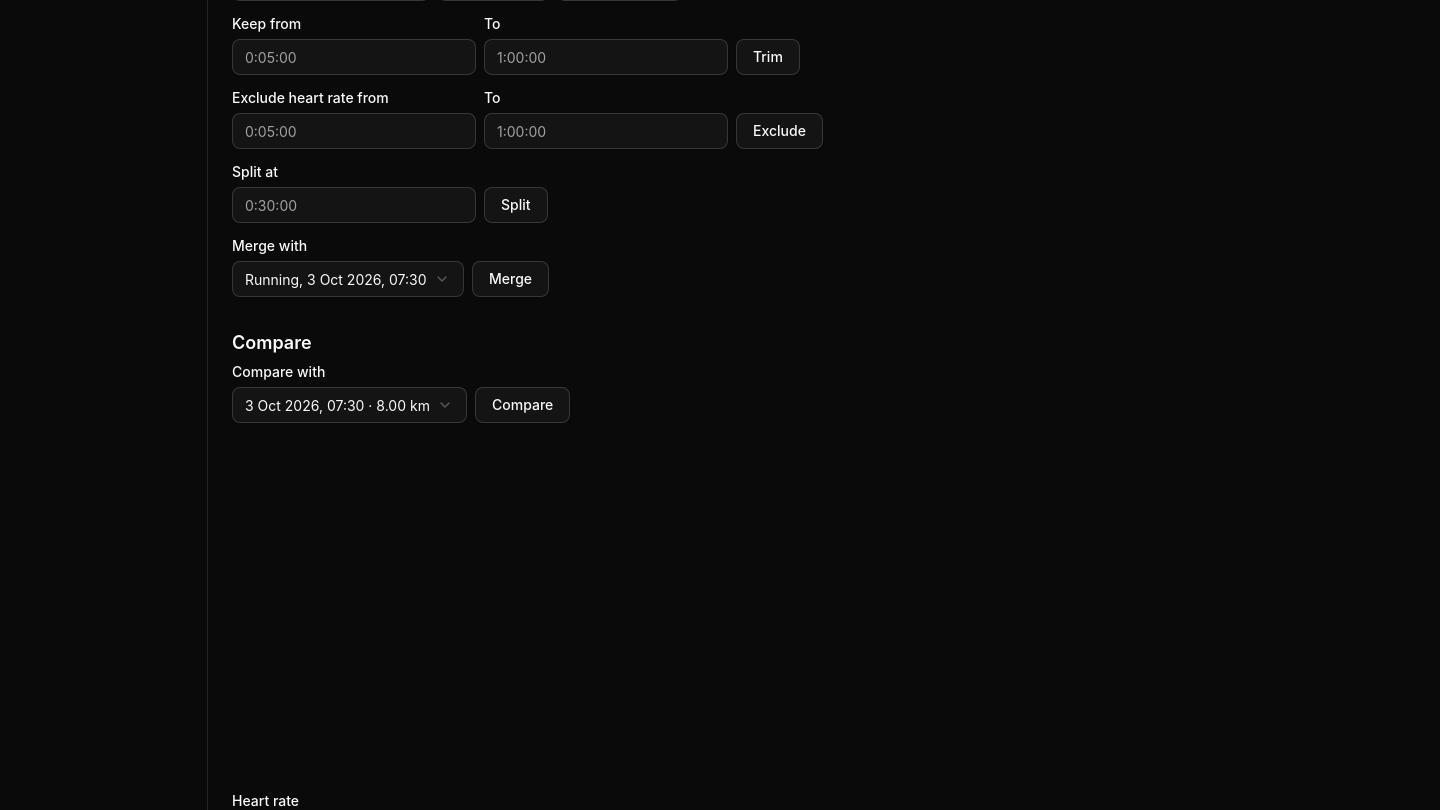
Scenario: ActivityDetailPage › compares with a recent activity of the same sport
(page scrolled)
Click the button "Compare". click: (523, 405)
box: top-left (475, 387), bottom-right (570, 423)
(page scrolled)
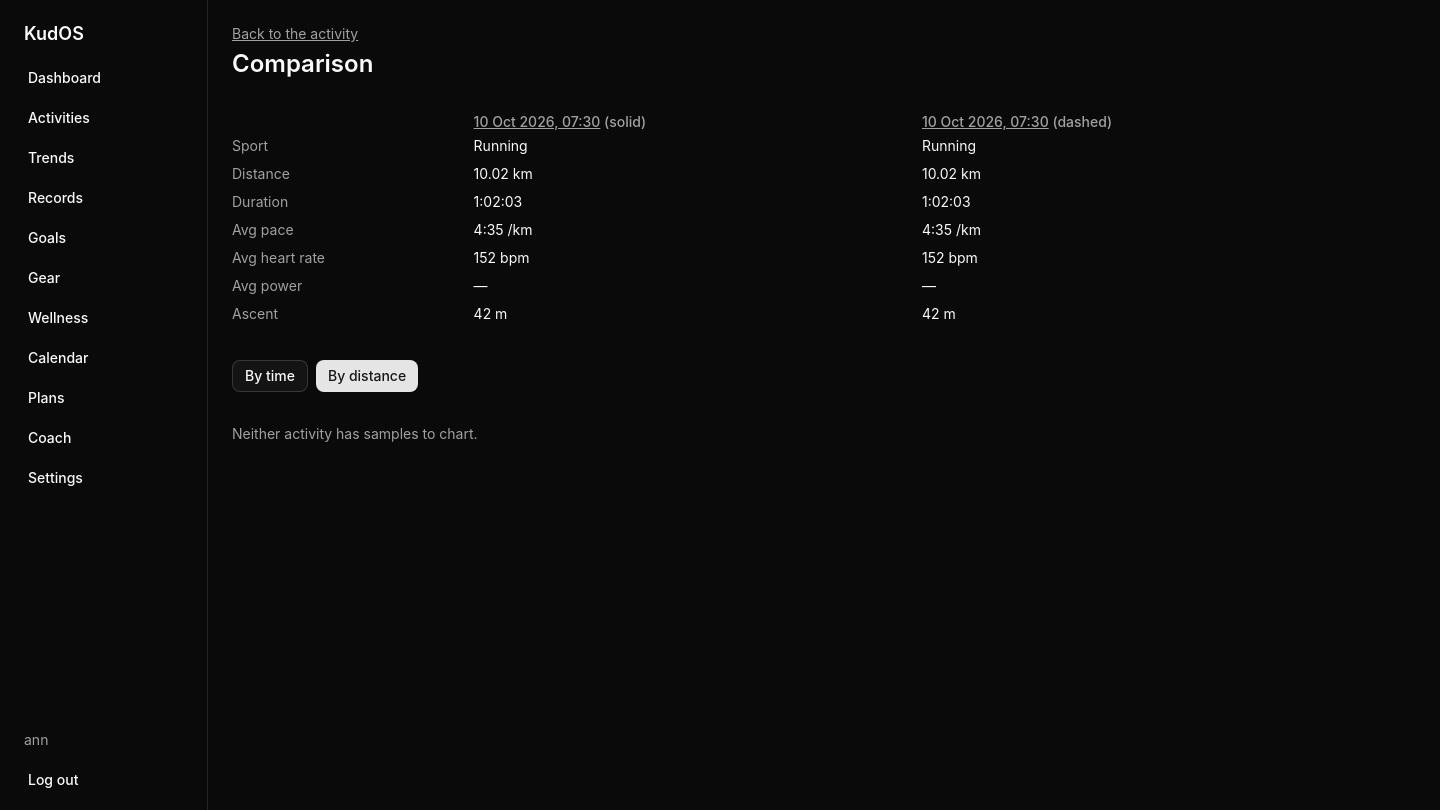
Now the heading "Comparison" is shown, box top-left (232, 49), bottom-right (373, 78)
